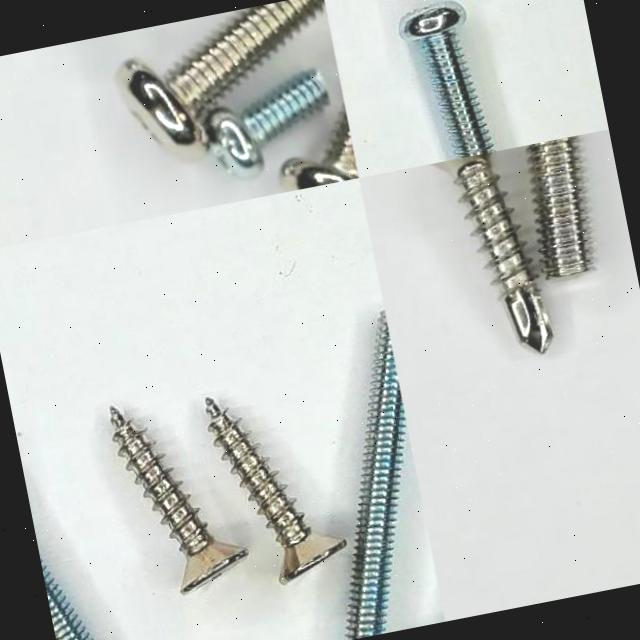Screw: (118, 0, 326, 157), (207, 398, 348, 584), (111, 406, 248, 593), (431, 152, 554, 352), (348, 313, 407, 640), (403, 1, 496, 159), (207, 71, 329, 178), (527, 135, 593, 278), (42, 565, 90, 640)
